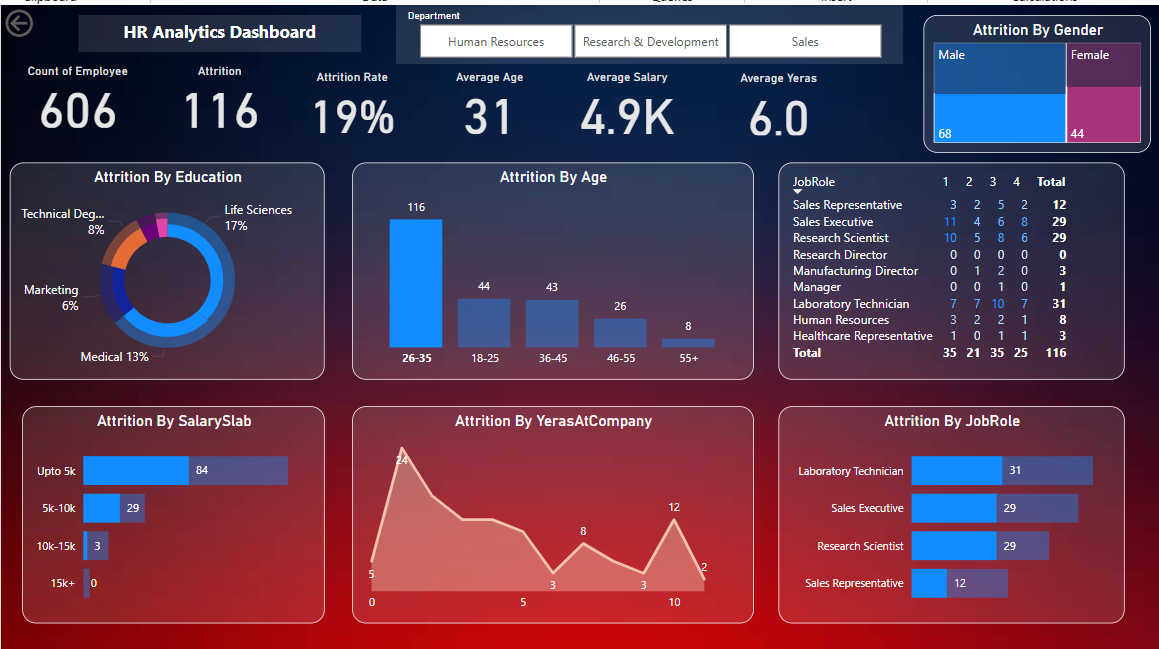

What the dashboard file says about the page in this screenshot:
{"tool":"powerbi","page":{"name":"Page 1","canvas":[1280,720],"ordinal":0},"visuals":[{"type":"card","title":"Count of Employee","fields":{"Values":["Sum(HR_Analytics.EmployeeCount)"]},"box":[9.6,64.5,149.6,75.5],"z":0},{"type":"card","title":"Attrition","fields":{"Values":["Sum(HR_Analytics.AttritionCount)"]},"box":[164.7,64.5,150.9,75.5],"z":1000},{"type":"card","title":"Attrition Rate","fields":{"Values":["HR_Analytics.Attrition Rtae"]},"box":[310.1,71.4,150.9,75.5],"z":2000},{"type":"card","title":"Average Age","fields":{"Values":["Avg(HR_Analytics.Age)"]},"box":[461.1,71.4,150.9,75.5],"z":3000},{"type":"card","title":"Average Salary","fields":{"Values":["Avg(HR_Analytics.MonthlyIncome)"]},"box":[612,71.4,150.9,75.5],"z":4000},{"type":"card","title":"Average Yeras","fields":{"Values":["Avg(HR_Analytics.YearsAtCompany)"]},"box":[778,72.7,150.9,75.5],"z":5000},{"type":"actionButton","box":[0,0,100,40],"z":6000},{"type":"donutChart","title":"Attrition By Education","fields":{"Category":["HR_Analytics.EducationField"],"Y":["Sum(HR_Analytics.AttritionCount)"]},"box":[9.6,172.9,345.8,238.8],"z":7000},{"type":"columnChart","title":"Attrition By Age","fields":{"Category":["HR_Analytics.AgeGroup"],"Y":["Sum(HR_Analytics.AttritionCount)"]},"box":[385.6,172.9,440.5,238.8],"z":8000},{"type":"pivotTable","fields":{"Rows":["HR_Analytics.JobRole"],"Columns":["HR_Analytics.JobSatisfaction"],"Values":["Sum(HR_Analytics.AttritionCount)"]},"box":[853.5,172.9,380.1,238.8],"z":9000},{"type":"clusteredBarChart","title":"Attrition By SalarySlab","fields":{"Category":["HR_Analytics.SalarySlab"],"Y":["Sum(HR_Analytics.AttritionCount)"]},"box":[23.3,440.5,332.1,238.8],"z":10000},{"type":"clusteredBarChart","title":"Attrition By JobRole","fields":{"Category":["HR_Analytics.JobRole"],"Y":["Sum(HR_Analytics.AttritionCount)"]},"box":[853.5,440.5,380.1,238.8],"z":11000},{"type":"areaChart","title":"Attrition By YerasAtCompany","fields":{"Category":["HR_Analytics.YearsAtCompany"],"Y":["Sum(HR_Analytics.AttritionCount)"]},"box":[385.6,440.5,440.5,238.8],"z":12000},{"type":"treemap","title":"Attrition By Gender","fields":{"Group":["HR_Analytics.Gender"],"Values":["Sum(HR_Analytics.AttritionCount)"]},"box":[1012.7,11,249.7,150.9],"z":12001},{"type":"slicer","fields":{"Values":["HR_Analytics.Department"]},"box":[433.6,0,557.1,64.5],"z":12002},{"type":"textbox","box":[85.1,11,310.1,41.2],"z":12003}]}

Visuals, with their boxes in screenshot pixels (x1, y1, x2, y2), scaled from the page's 1280x720 canvas onto the 1159x649 screenshot:
"Count of Employee" card: Rect(9, 58, 144, 126)
"Attrition" card: Rect(149, 58, 286, 126)
"Attrition Rate" card: Rect(281, 64, 417, 132)
"Average Age" card: Rect(418, 64, 554, 132)
"Average Salary" card: Rect(554, 64, 691, 132)
"Average Yeras" card: Rect(704, 66, 841, 134)
actionButton: Rect(0, 0, 91, 36)
"Attrition By Education" donutChart: Rect(9, 156, 322, 371)
"Attrition By Age" columnChart: Rect(349, 156, 748, 371)
pivotTable - HR_Analytics.JobRole x HR_Analytics.JobSatisfaction: Rect(773, 156, 1117, 371)
"Attrition By SalarySlab" clusteredBarChart: Rect(21, 397, 322, 612)
"Attrition By JobRole" clusteredBarChart: Rect(773, 397, 1117, 612)
"Attrition By YerasAtCompany" areaChart: Rect(349, 397, 748, 612)
"Attrition By Gender" treemap: Rect(917, 10, 1143, 146)
slicer - HR_Analytics.Department: Rect(393, 0, 897, 58)
textbox: Rect(77, 10, 358, 47)
